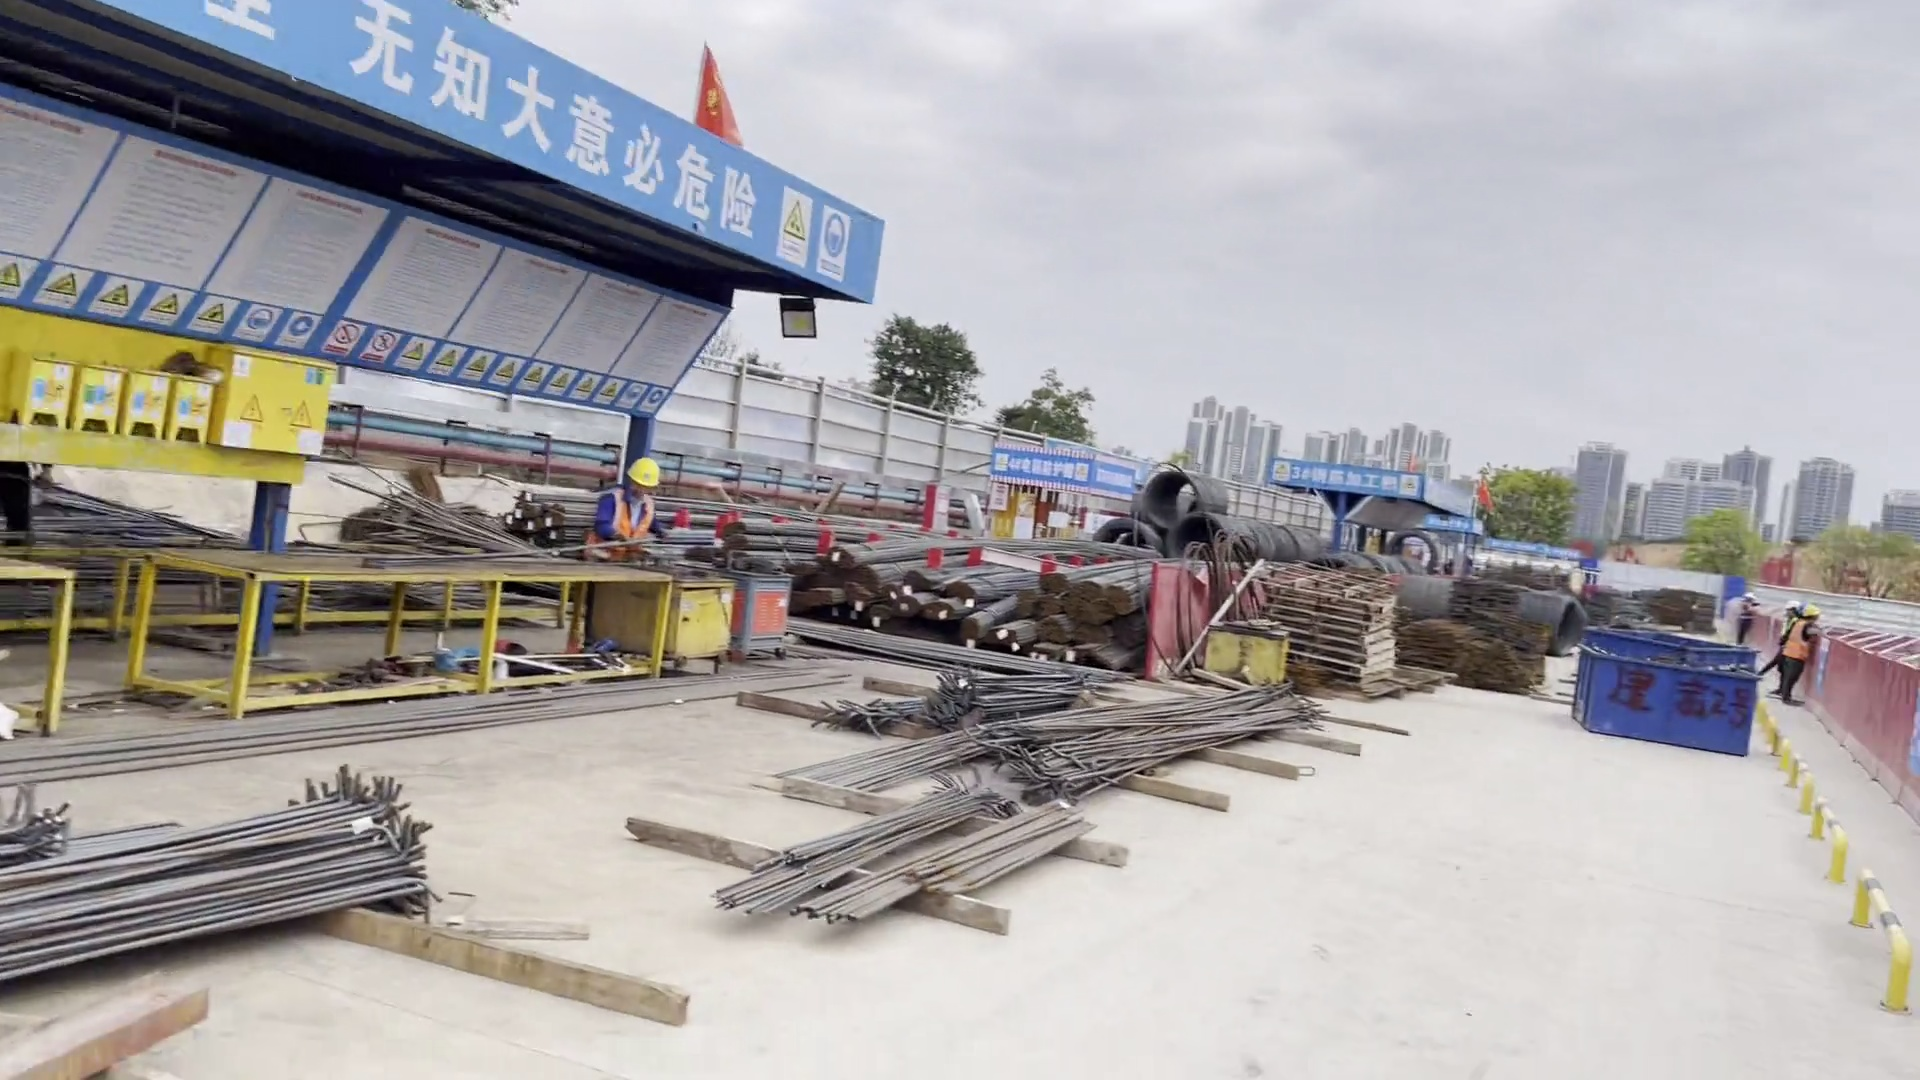ebox: (199, 342, 351, 472)
helmet: (628, 452, 658, 489), (1801, 606, 1818, 615), (1784, 602, 1798, 611), (1744, 593, 1754, 599)
hopper: (1569, 646, 1764, 764), (1584, 617, 1723, 663)
person: (585, 452, 670, 569), (1780, 607, 1824, 706), (1771, 600, 1799, 673), (1728, 592, 1763, 645)
rebar: (1, 753, 459, 994), (684, 782, 985, 919), (969, 681, 1347, 787), (840, 820, 1070, 953), (556, 508, 898, 530), (825, 535, 980, 567), (1034, 554, 1140, 598), (949, 564, 1069, 599), (856, 550, 956, 585), (961, 592, 1020, 639), (513, 491, 601, 517), (1112, 575, 1181, 607), (1077, 566, 1140, 600), (987, 619, 1038, 646), (915, 592, 957, 624), (1072, 596, 1113, 625), (921, 597, 967, 623), (807, 583, 844, 612), (805, 568, 844, 595), (1038, 615, 1077, 641), (893, 593, 925, 621), (860, 601, 892, 628), (542, 515, 594, 532), (541, 530, 590, 546), (1032, 594, 1064, 616), (522, 517, 545, 538), (499, 513, 521, 528), (513, 508, 533, 521)
slogan: (173, 1, 742, 239)
vest: (598, 486, 659, 555), (1784, 621, 1813, 661), (1780, 617, 1795, 649), (1741, 599, 1754, 621)
